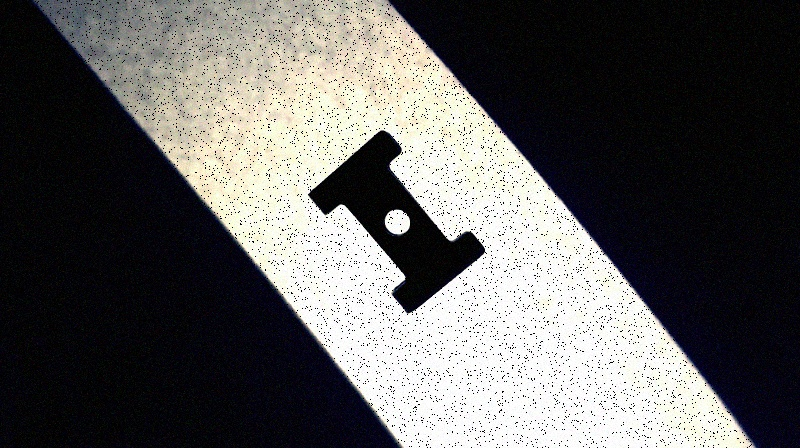O002: (305, 126, 491, 317)
